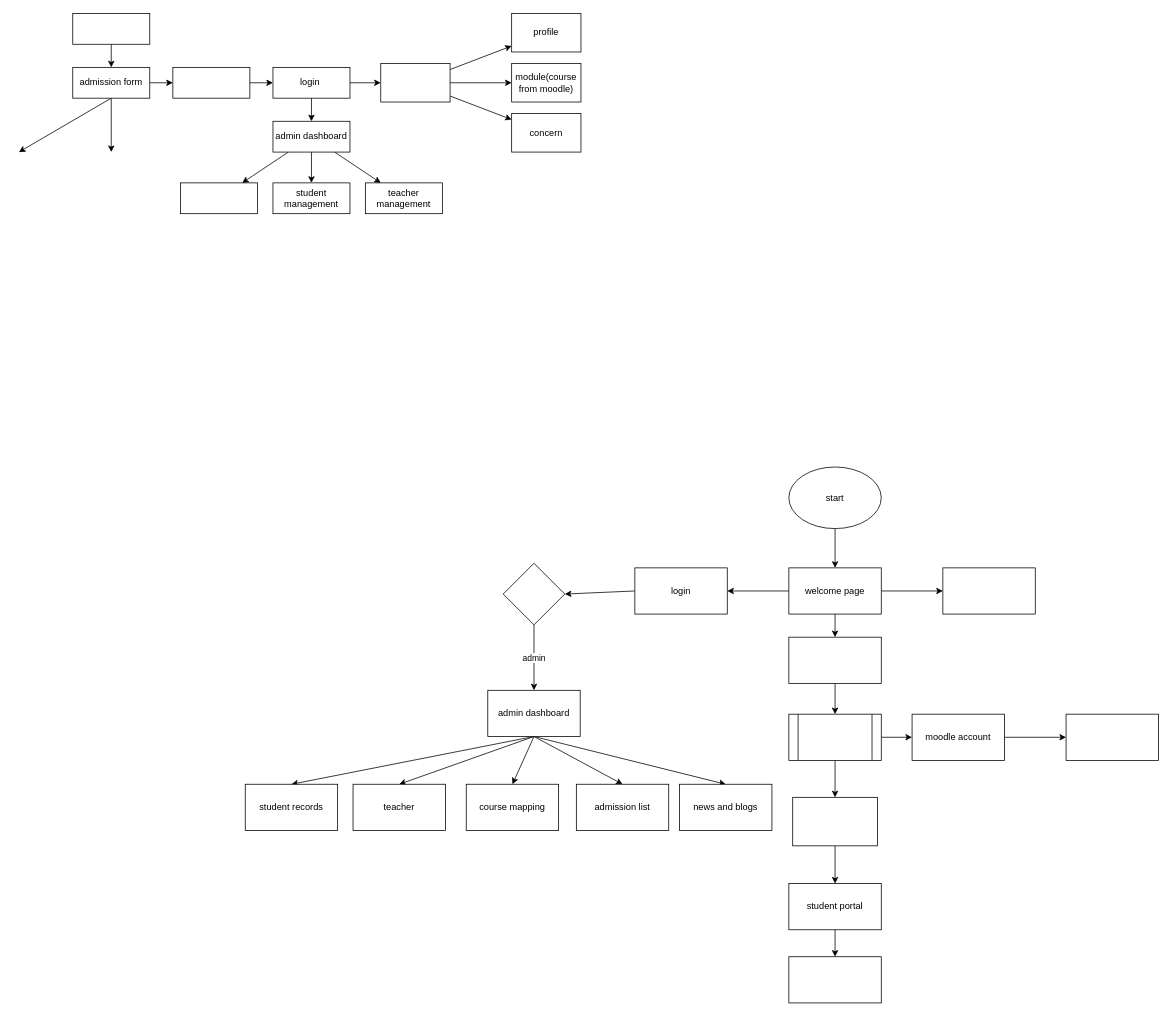
Image size: 1172x1016. Some labels were removed from this diagram. Here are the shapes that lost their labels. From the top down, the centre of each, then its label:
(111,28): welcome
(211,82): send email user and password
(415,82): if student dashboard
(533,593): usertype
(988,590): pages
(834,659): admission
(834,736): generate account
(1111,736): moodle home page
(834,821): user login account
(834,979): enroll module
